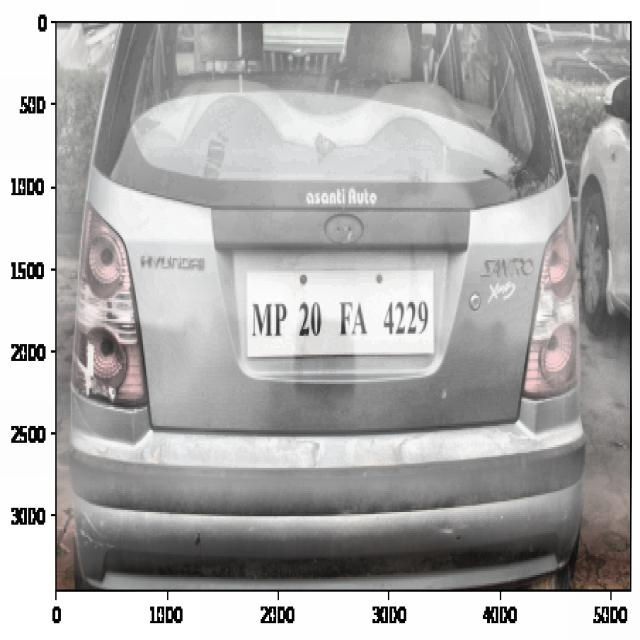license_plate: (247, 287, 436, 356)
